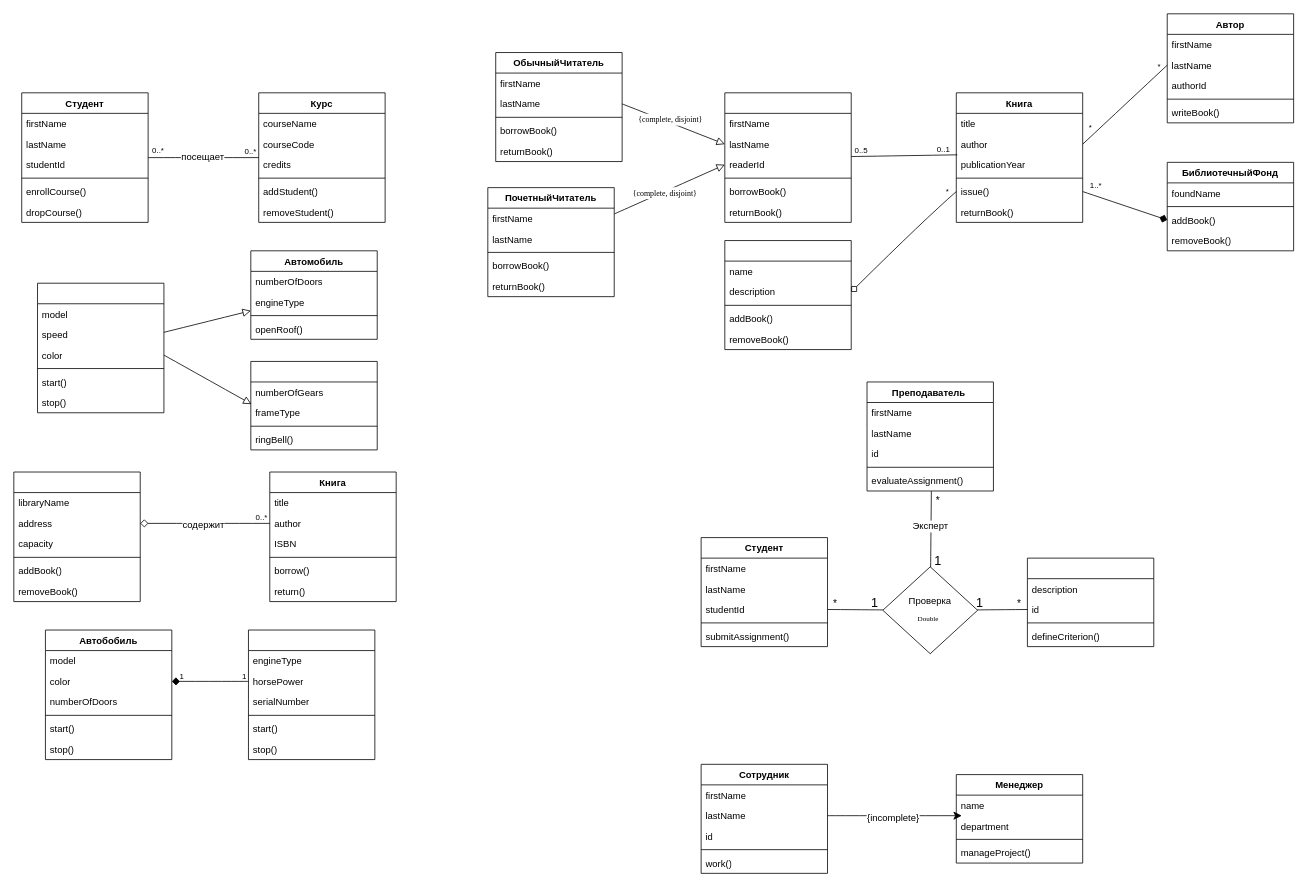
The diagram is 1307 pixels wide and 890 high, and some of its shapes have lost their labels. Each missing label, with the box of its shape:
Библиотека: (13, 471, 140, 602)
Велосипед: (250, 361, 377, 450)
Двигатель: (248, 629, 375, 760)
КритерийОценки: (1027, 557, 1154, 647)
ПодборкаКниг: (724, 240, 851, 350)
Транспортное средство: (37, 282, 164, 413)
Читатель: (724, 92, 851, 222)
